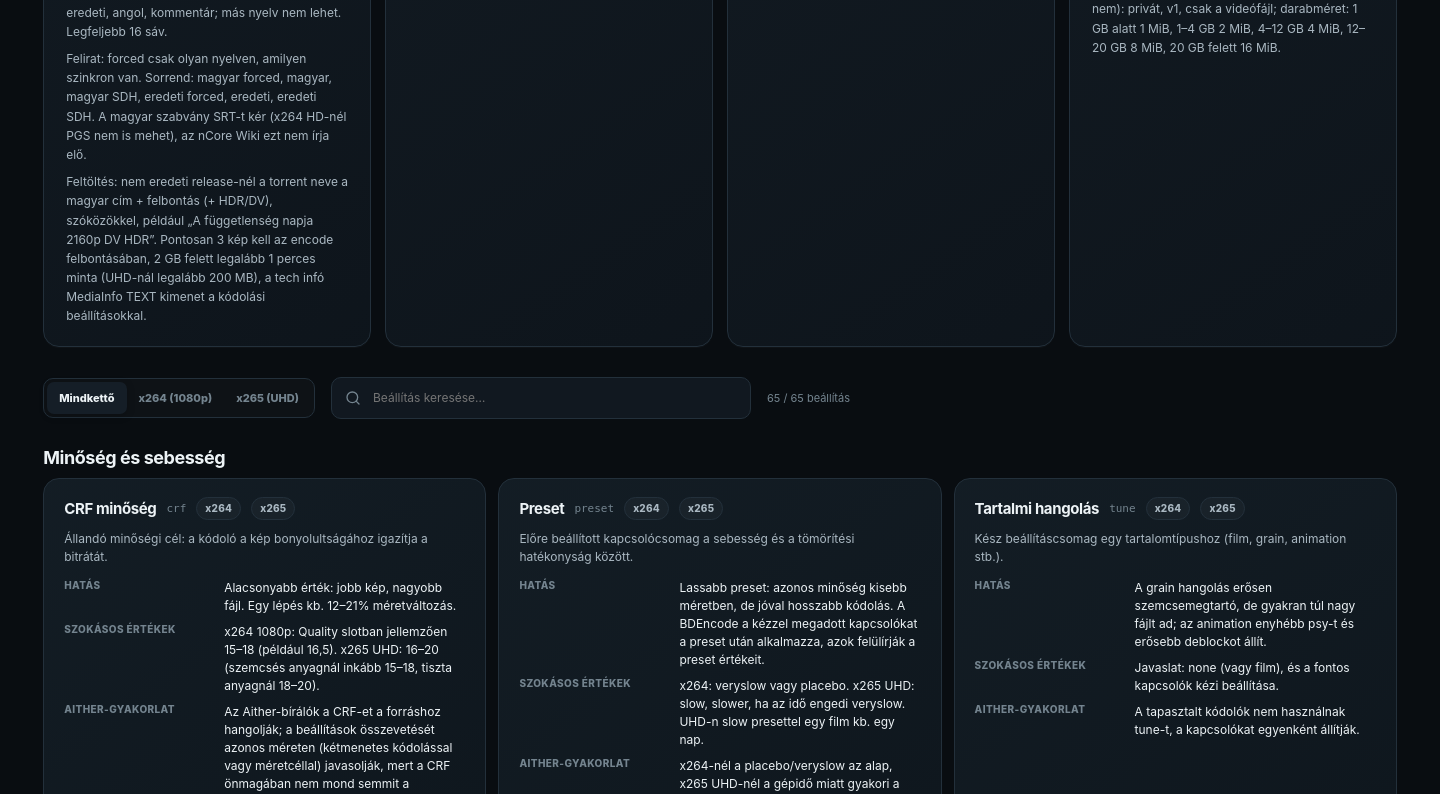
Test case: encoder help › filters the settings by encoder and by search
(page scrolled)
Click the button "x264 (1080p)" at point(175, 398), box [126,382,224,414]
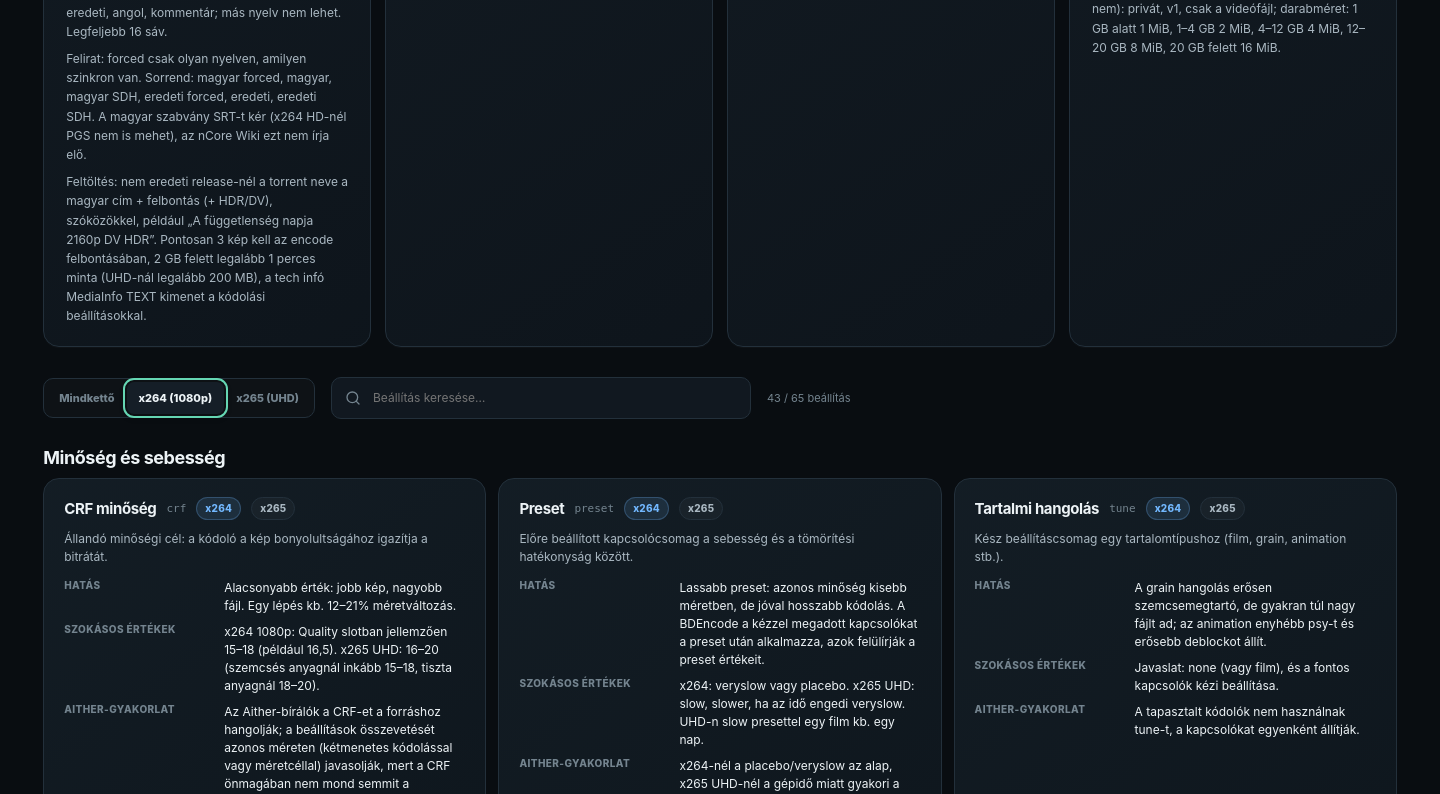
Click the button "Mindkettő" at point(87, 398), box [47,382,126,414]
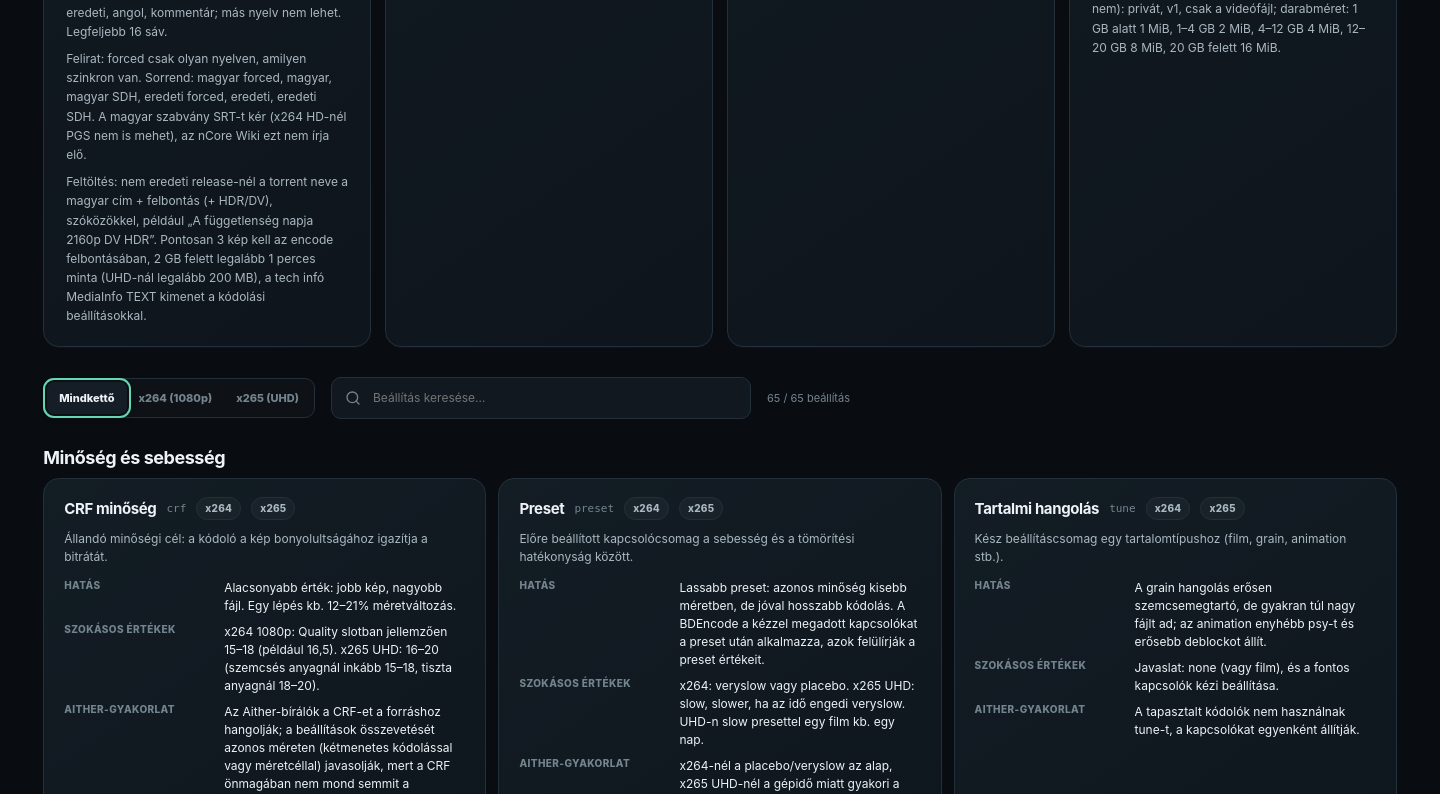
Type "szemcsét" into the field labelled "Beállítás keresése" at point(554, 398), box [371,389,737,406]
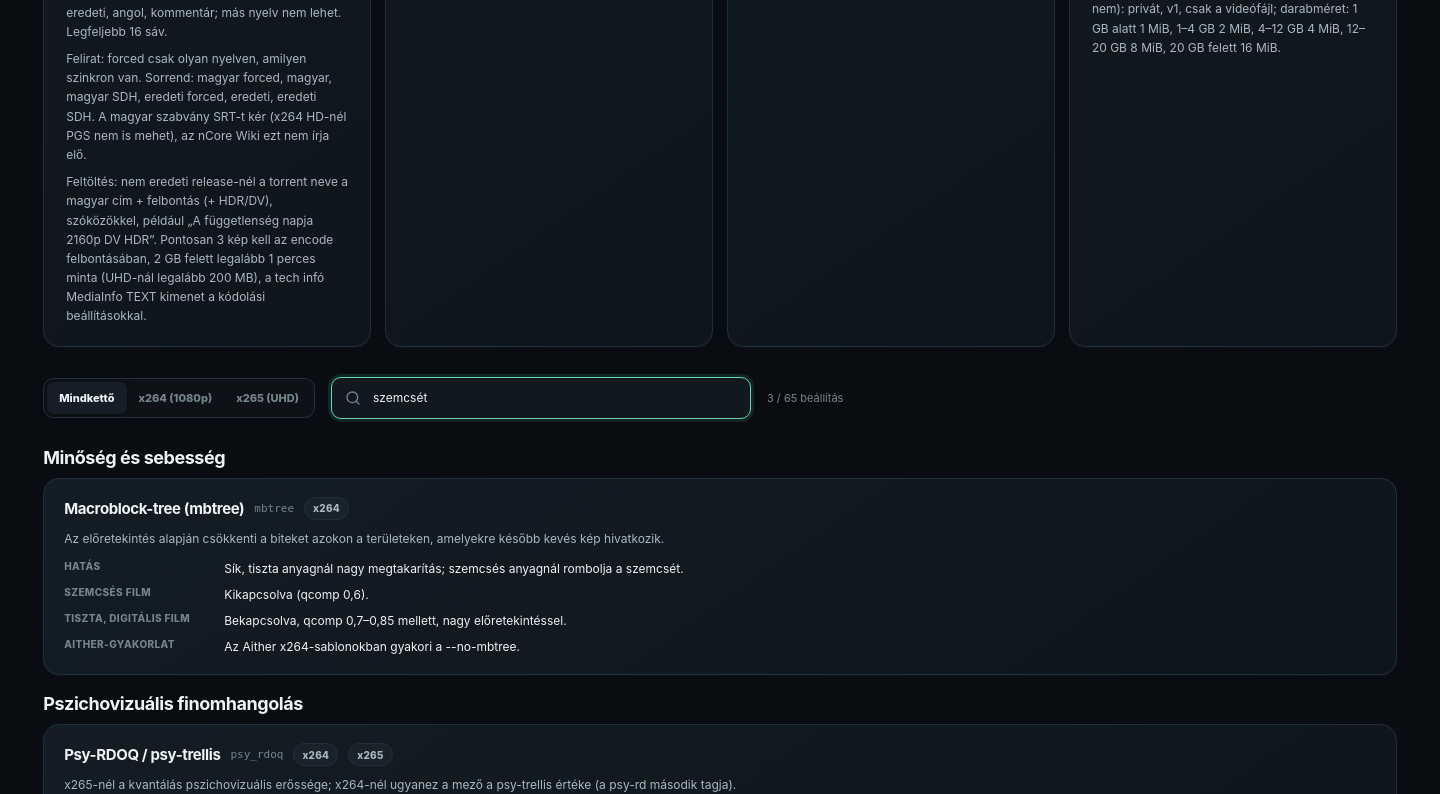
Replace the text in the field named "Beállítás keresése" with "nincs ilyen beállítás" at point(554, 398), box [371,389,737,406]
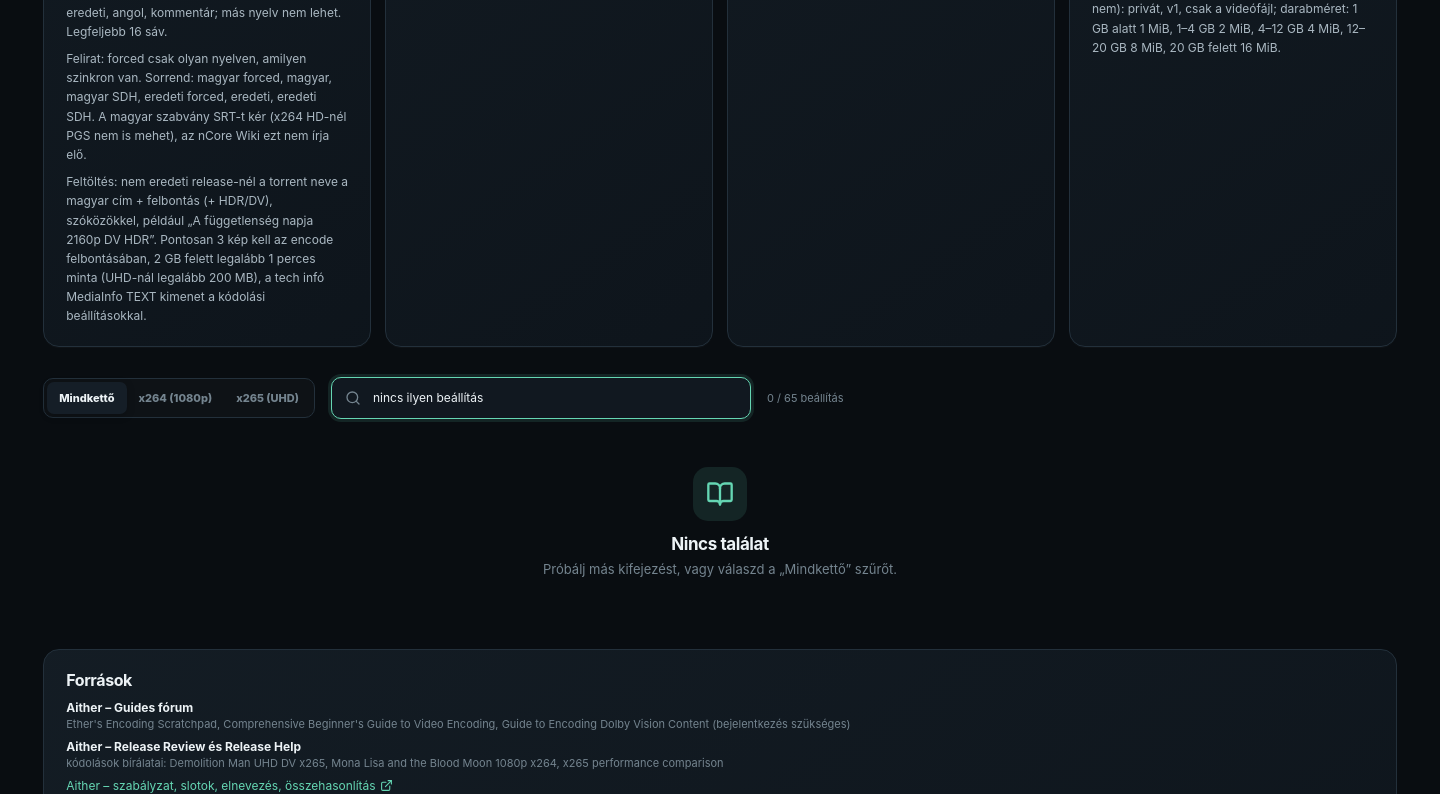
Now the heading "Nincs találat" is shown, box [671,534,769,554]
